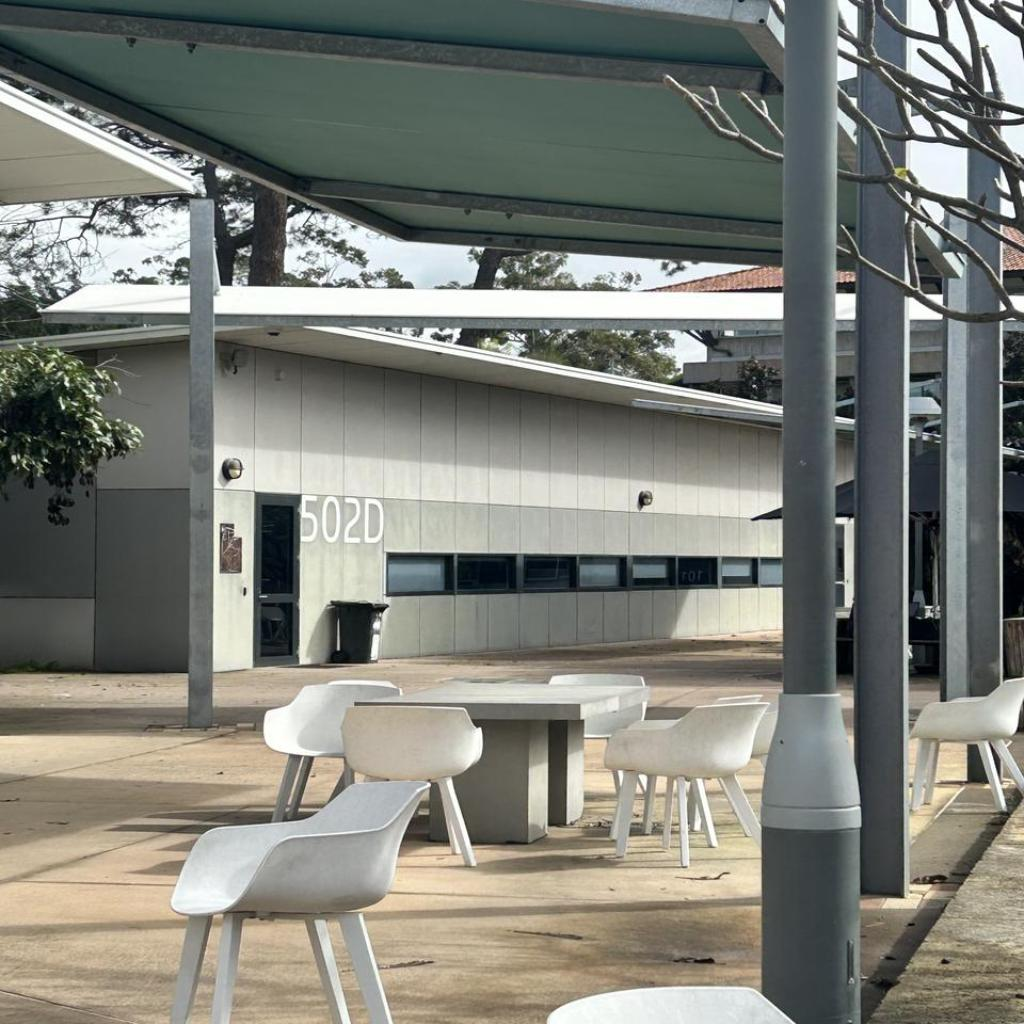BuildingCodes: (298, 491, 386, 545)
